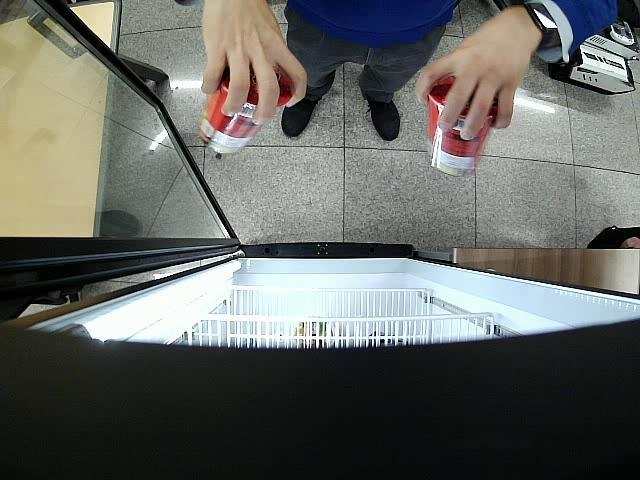02_shinRamen_S: (200, 69, 294, 155), (427, 82, 494, 177)
